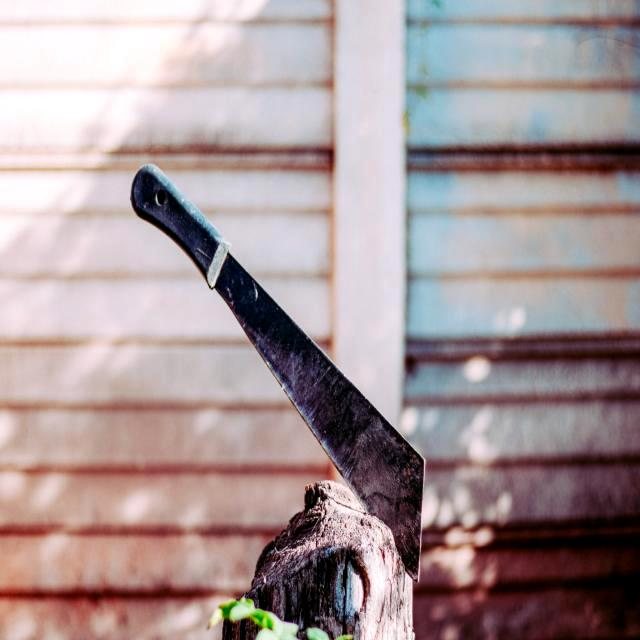long knife: (105, 143, 463, 601)
